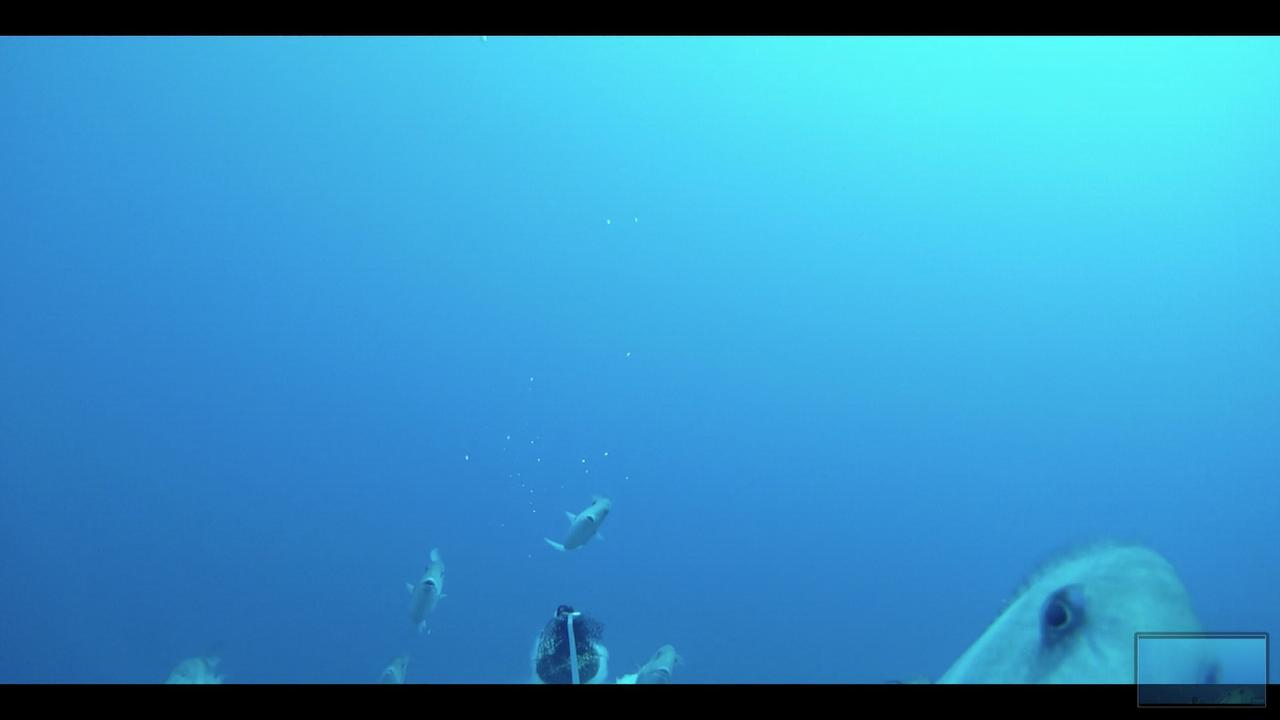balistes: (909, 537, 1211, 683), (536, 490, 625, 555), (401, 543, 458, 630), (616, 639, 686, 680)
